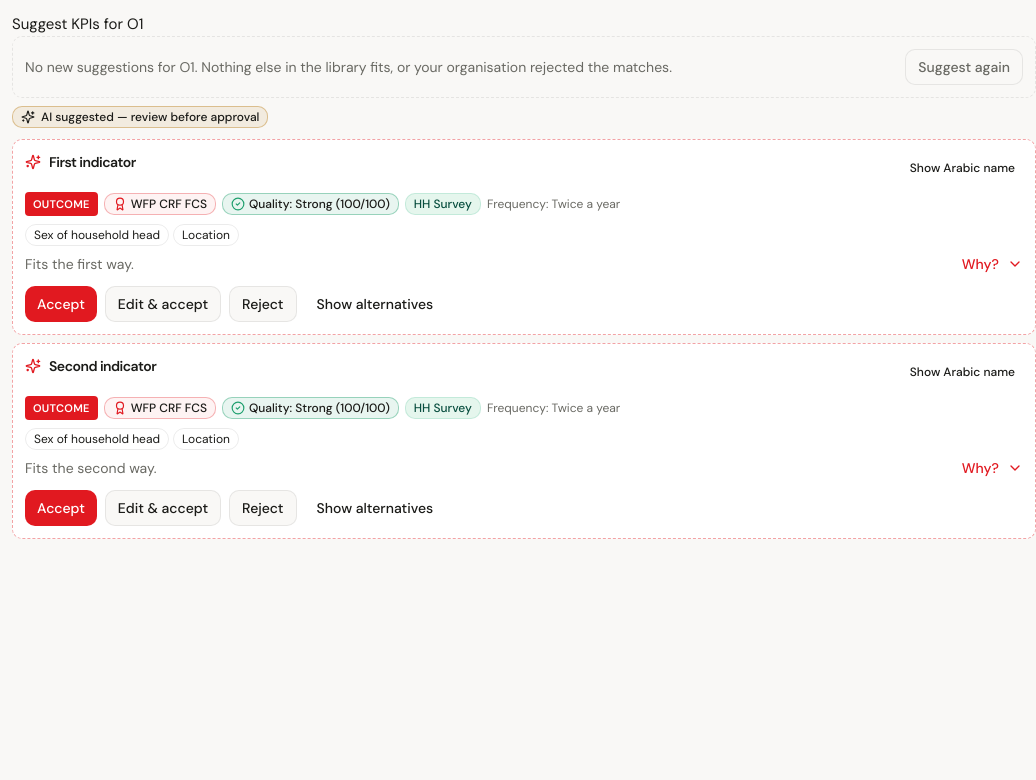
it: KpiResultSuggestions › shows 'No new suggestions' for a run that returned none next to older cards, until a card is decided
The width and height of the screenshot is (1036, 780).
Expected: the text "No new suggestions for O1. Nothing else in the library fits" is shown, left=25, top=58, right=672, bottom=76
Click the button with aria-label "Accept “First indicator”".
click(61, 304)  # box left=25, top=286, right=97, bottom=322
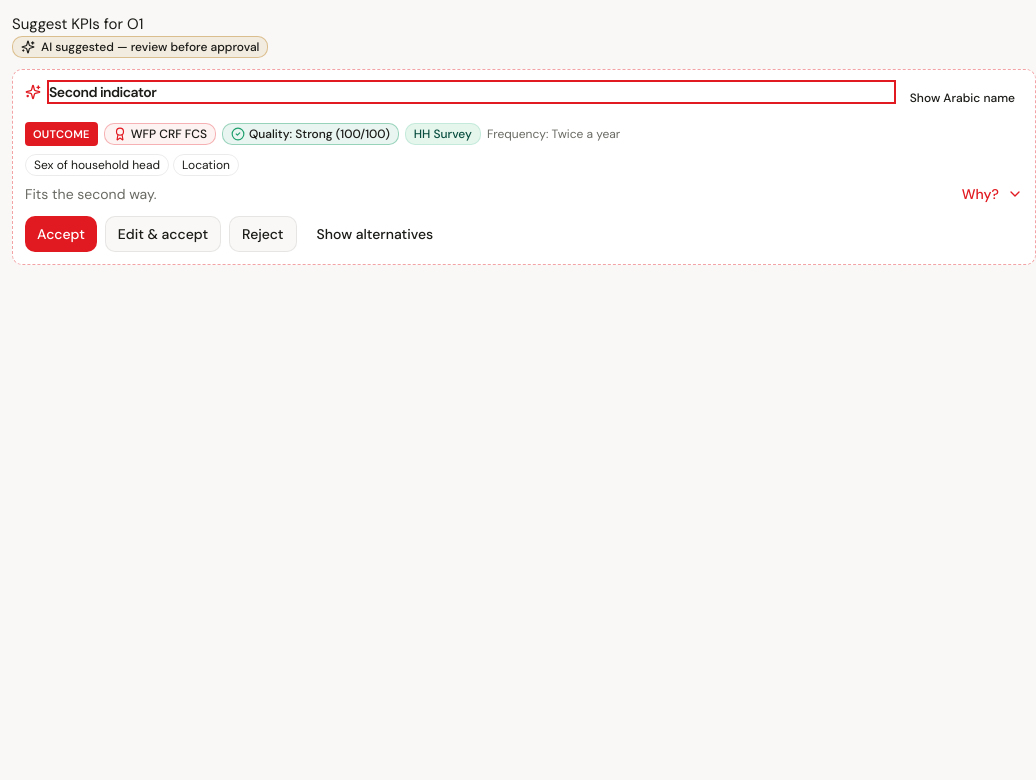
Expected: the text "Nothing else in the library fits" is gone
